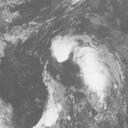cyclone: (49, 35, 75, 63)
